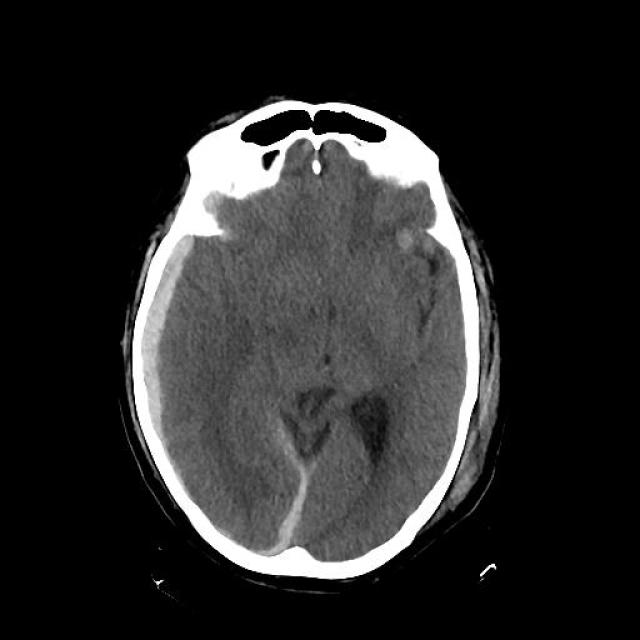Intraparenchymal: (384, 215, 438, 265)
Subdural: (100, 229, 219, 509), (260, 455, 338, 571)
